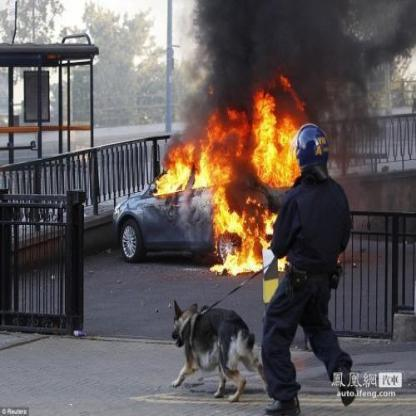fire: (141, 88, 315, 280)
smoke: (178, 0, 402, 115)
